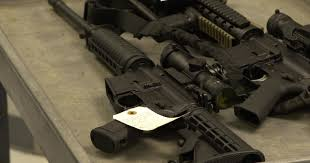gun: (45, 0, 265, 162), (124, 1, 308, 130)
